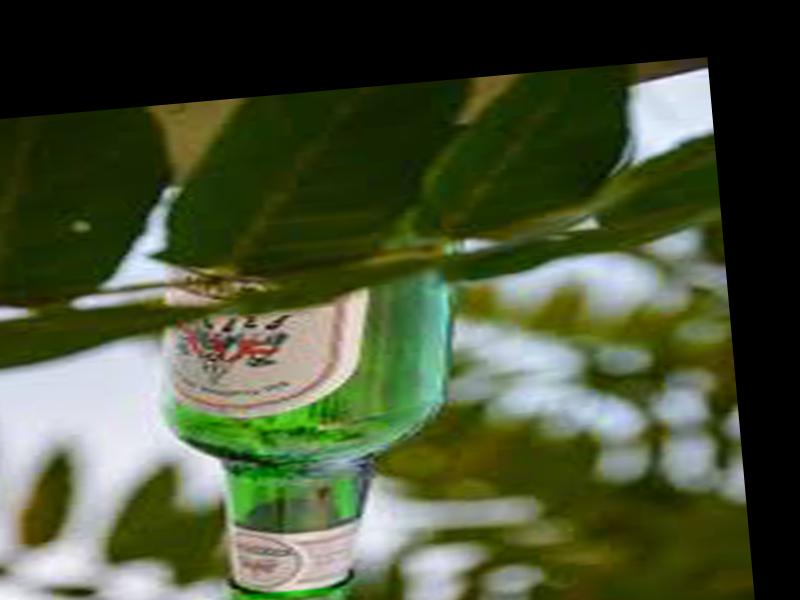Beer: (154, 235, 474, 600)
